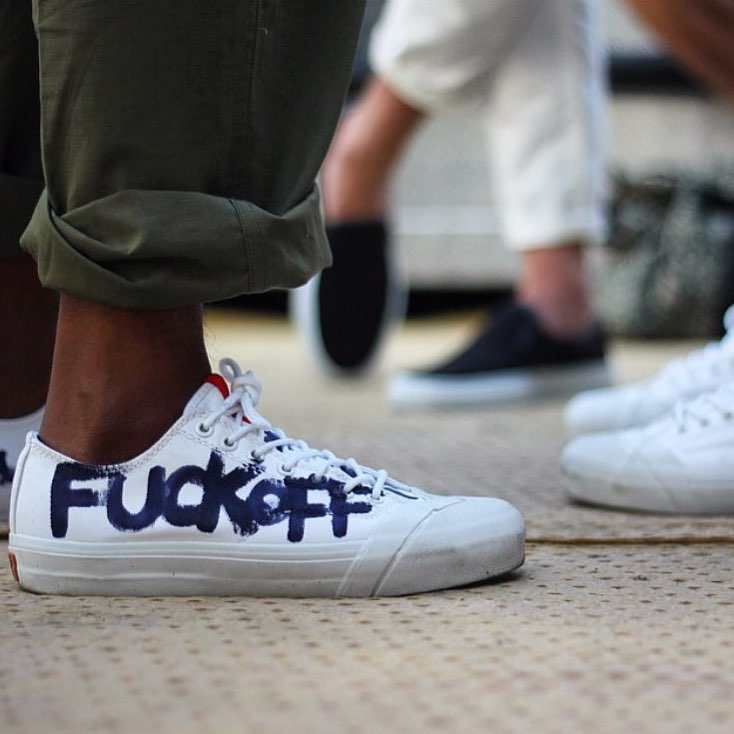sneaker: (1, 247, 563, 624), (378, 230, 640, 421), (284, 75, 416, 389), (553, 293, 734, 457), (552, 378, 734, 529)
